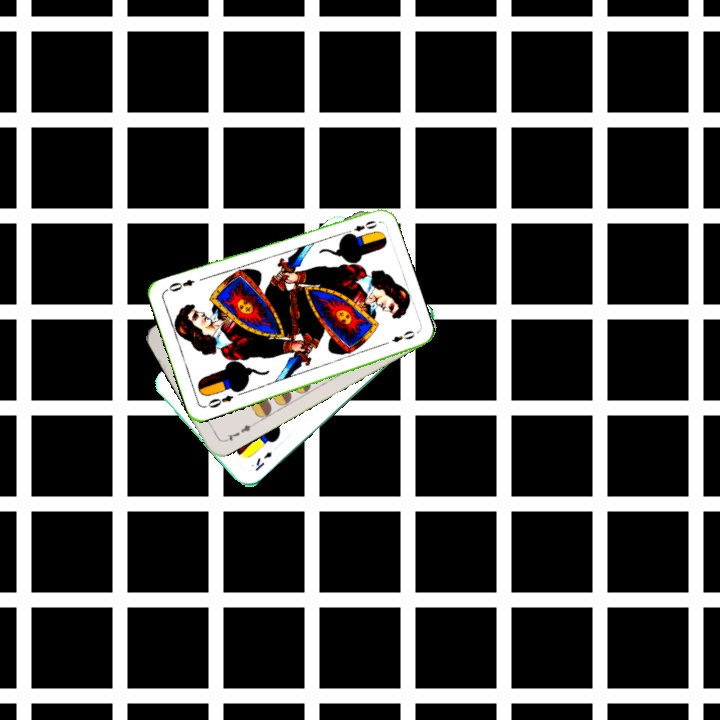E7: (220, 420, 257, 445)
EK: (251, 447, 275, 474)
EO: (341, 216, 380, 238), (201, 391, 236, 411)
